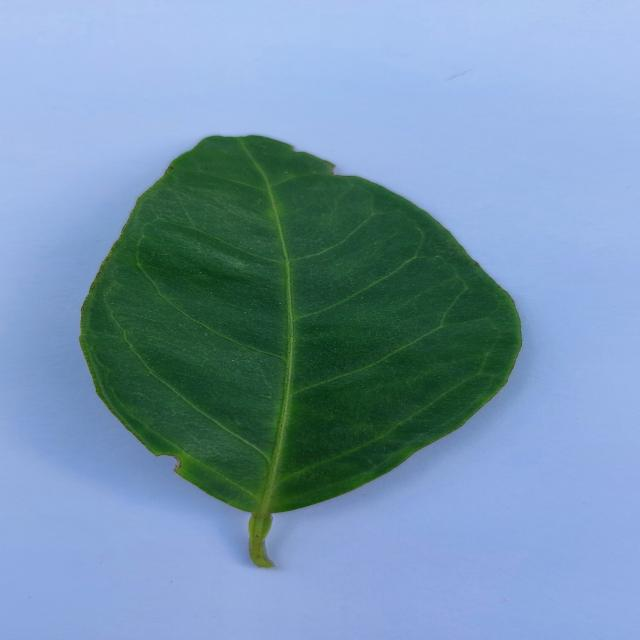greening: (83, 136, 520, 566)
